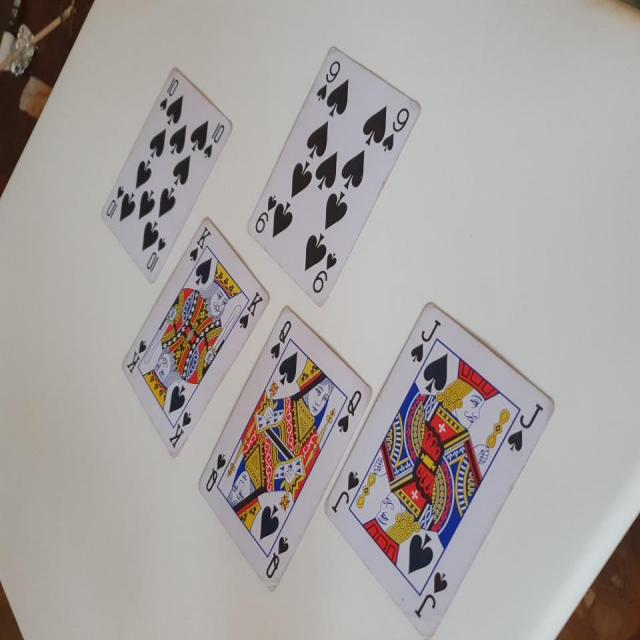10 Spades: (92, 64, 237, 292)
9 Spades: (241, 38, 428, 318)
J Spades: (320, 295, 559, 640)
K Spades: (114, 215, 270, 472)
Q Spades: (196, 314, 369, 601)
